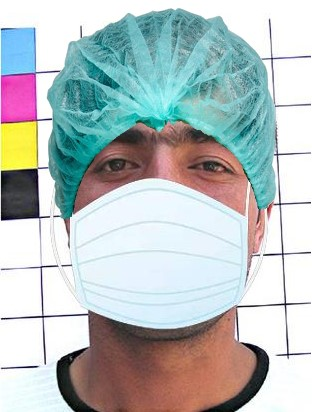with_mask_and_cap: (51, 8, 274, 334)
